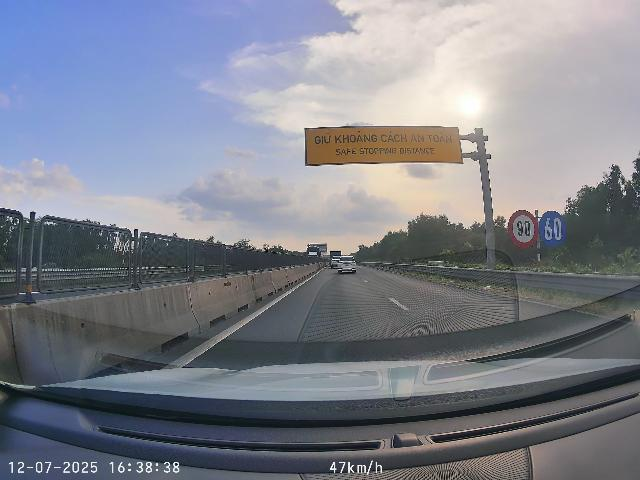127-toc-do-toi-da-90: (508, 209, 539, 248)
306-toc-do-toi-thieu-60: (539, 210, 566, 248)
